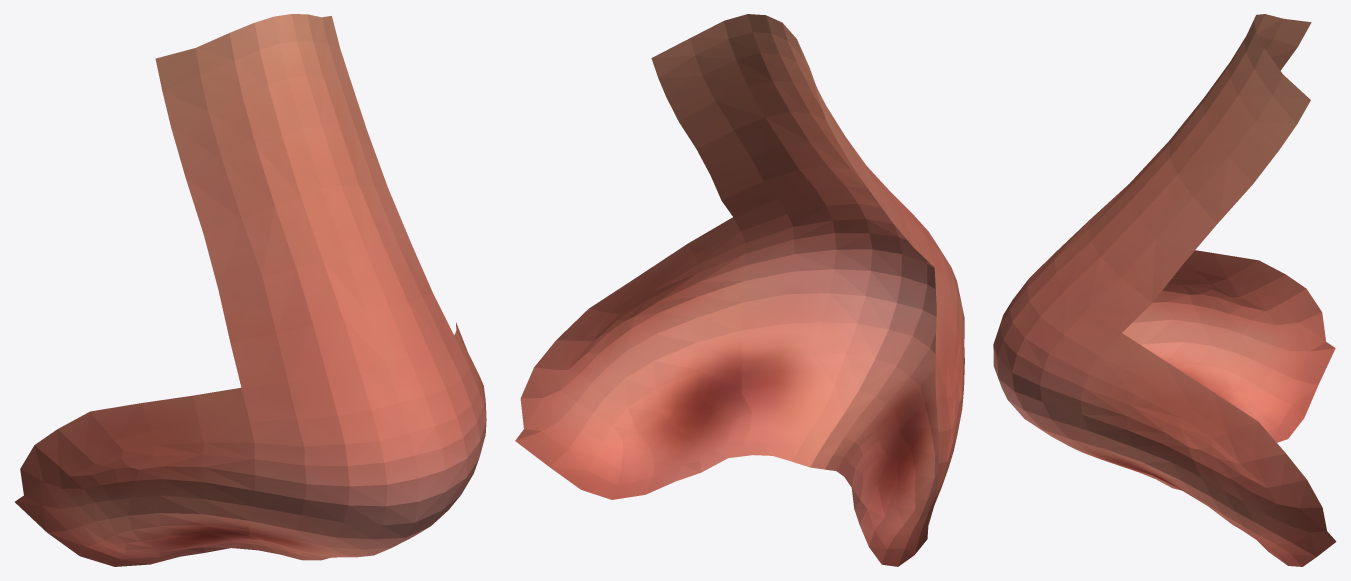
The model's file is euro-nose-nostril-up.obj.
3 renders of one model, left to right at view 1: azimuth 30°, elevation 25°; view 2: azimuth 150°, elevation 25°; view 3: azimuth 270°, elevation 25°, orthographic. The views are drawn at different scales.
Parts seen in each view (by area): view 1: euro-nose-nostril-up.001; view 2: euro-nose-nostril-up.001; view 3: euro-nose-nostril-up.001.
Boxes of the visible parts, box(x1,y1,x2,y2) form: euro-nose-nostril-up.001: box(15, 14, 486, 566); euro-nose-nostril-up.001: box(515, 14, 964, 566); euro-nose-nostril-up.001: box(993, 14, 1336, 566).
Size of the model in its own units: 0.2328 by 0.2705 by 0.1746.
1 material, 1 textured.
